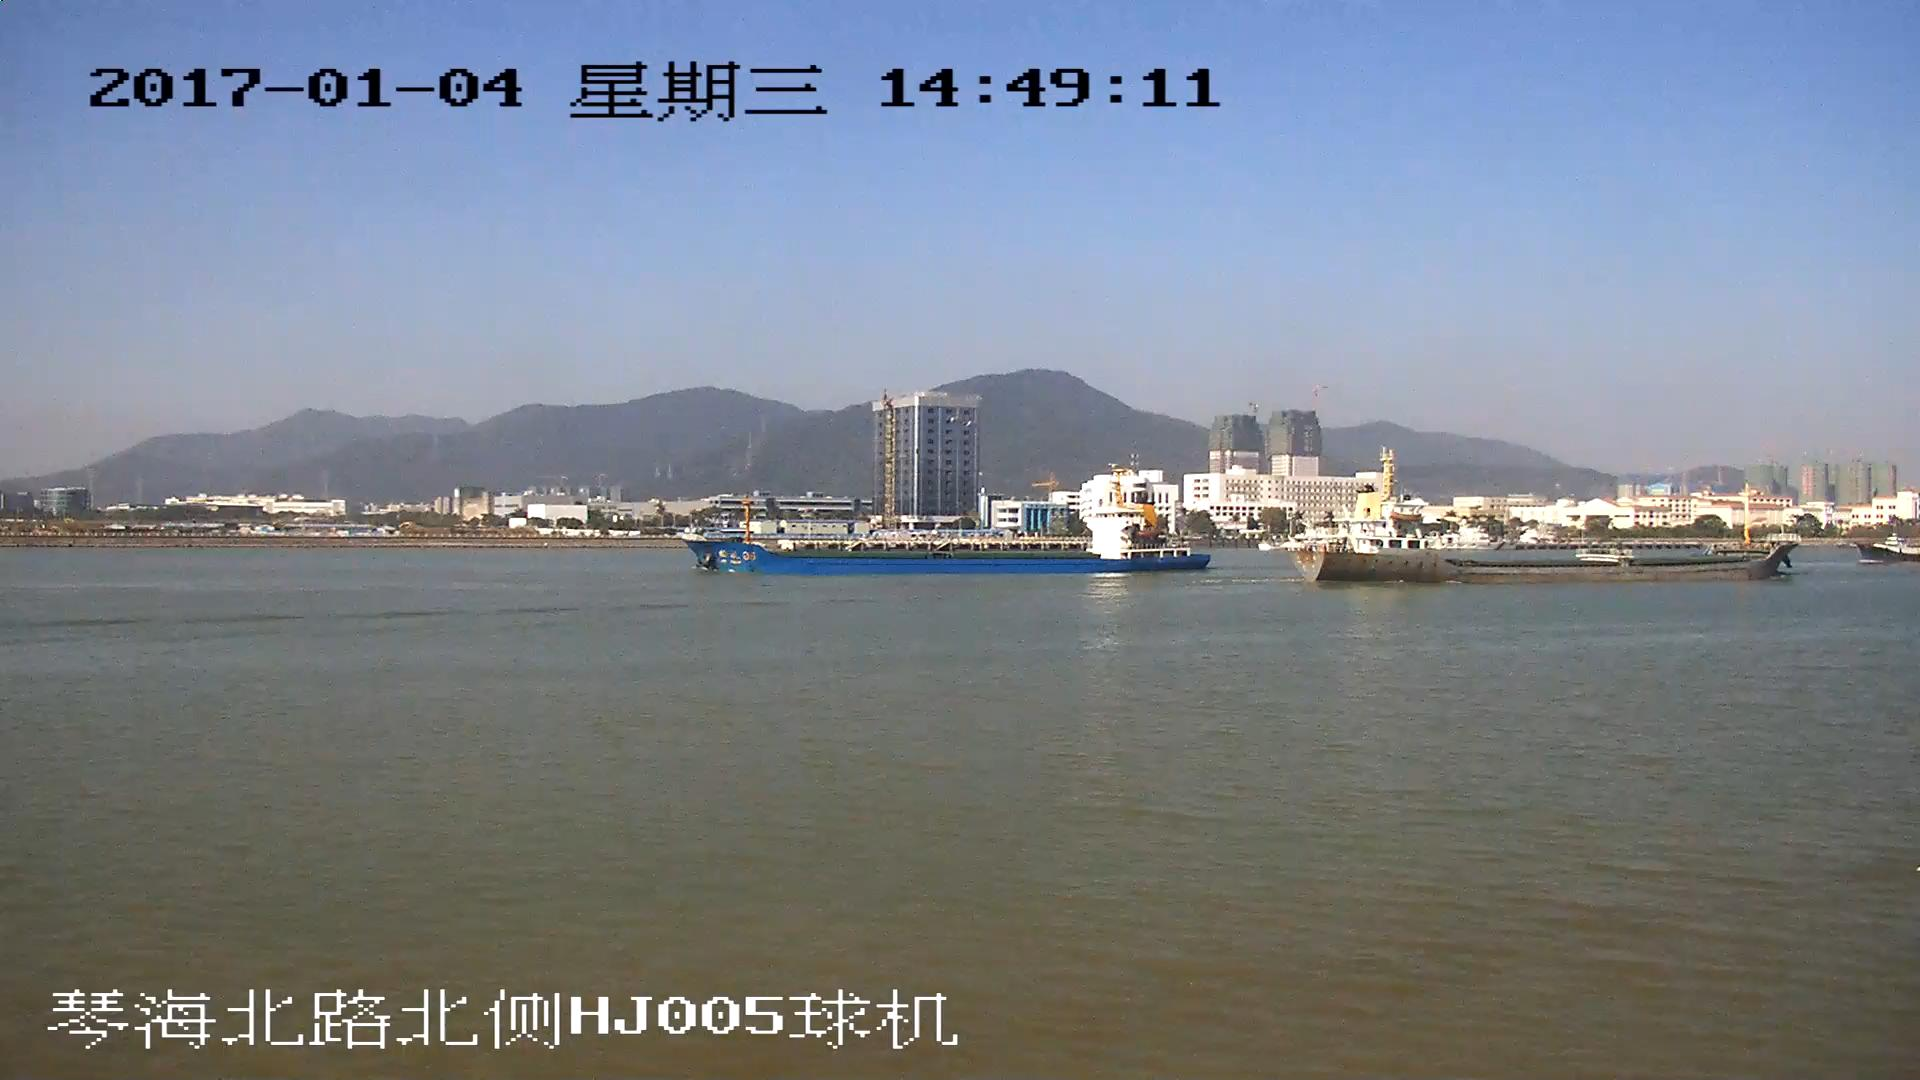general cargo ship: (1297, 463, 1794, 588), (690, 478, 1213, 576)
